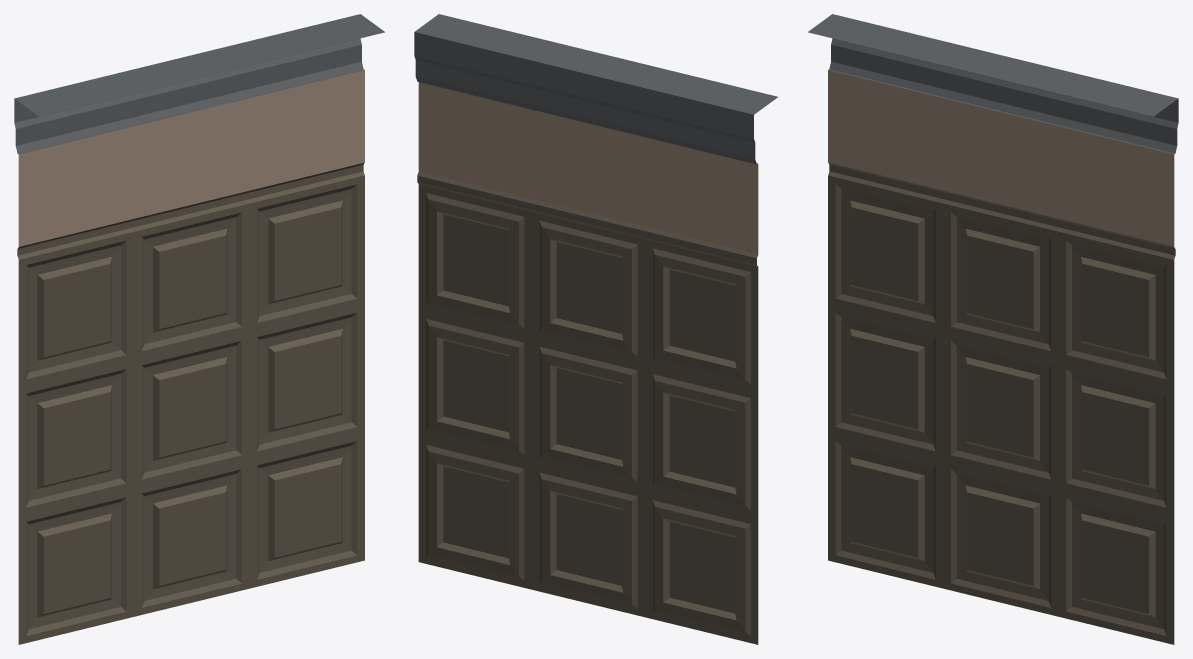
The model's file is Fancy_Wall.fbx.
3 views of the same model, side by side, from view 1: azimuth 30°, elevation 25°; view 2: azimuth 150°, elevation 25°; view 3: azimuth 330°, elevation 25° (orthographic).
Visible parts, largest first — view 1: Wall_1.008; view 2: Wall_1.008; view 3: Wall_1.008.
Boxes of the visible parts, x1,y1,x2,y2 form: Wall_1.008: [14, 14, 384, 644]; Wall_1.008: [414, 14, 777, 644]; Wall_1.008: [808, 14, 1178, 644].
Size of the model in its own units: 200 by 300 by 25.
